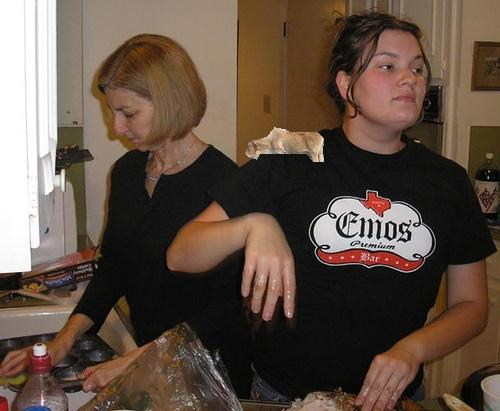tampered: (246, 128, 324, 162)
